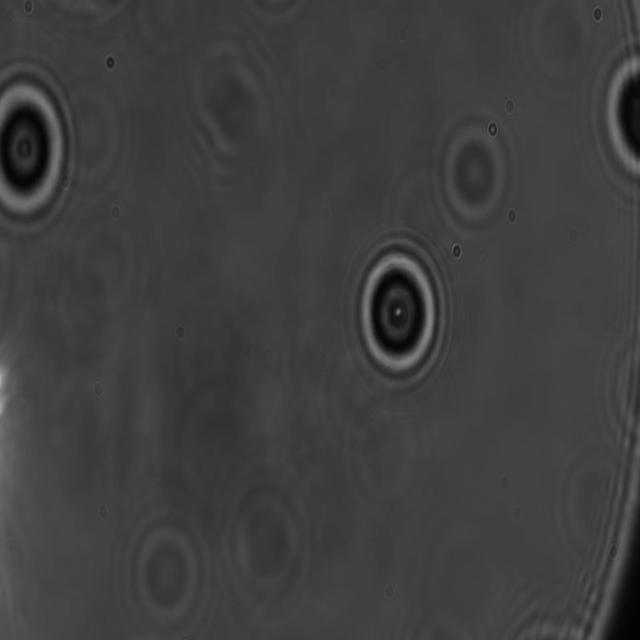LCELL: (348, 235, 449, 393)
